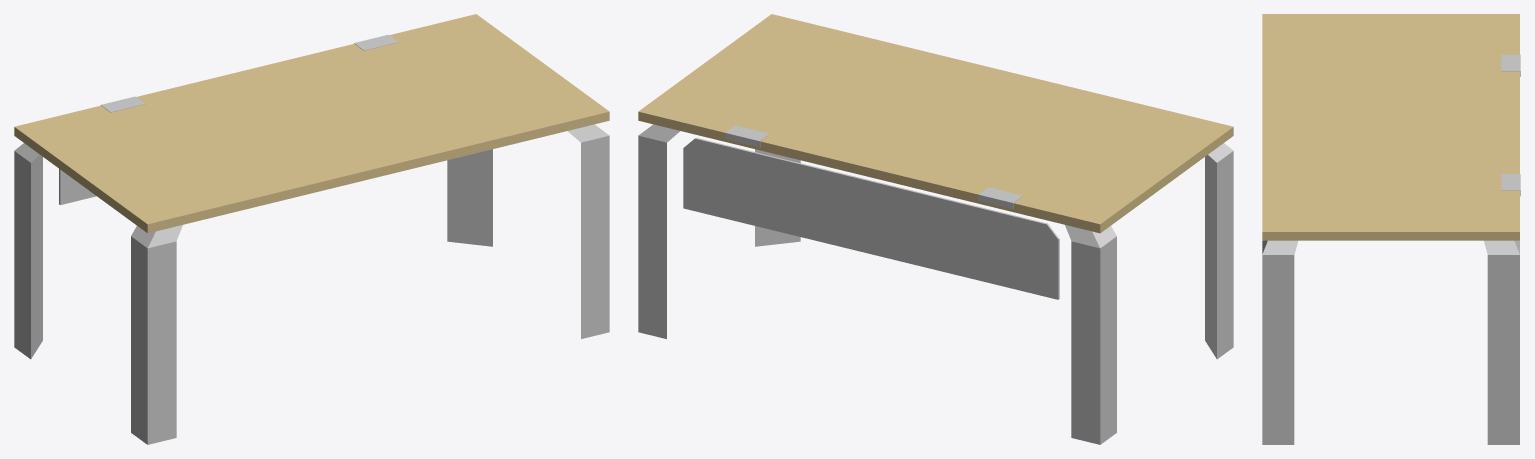
The model's file is table_2.dae.
3 views of the same model, side by side, from view 1: azimuth 30°, elevation 25°; view 2: azimuth 150°, elevation 25°; view 3: azimuth 270°, elevation 25° (orthographic). The views are drawn at different scales.
Parts seen in each view (by area): view 1: office_desk; view 2: office_desk; view 3: office_desk.
Boxes of the visible parts, x1,y1,x2,y2 form: office_desk: (14, 14, 609, 444); office_desk: (638, 14, 1233, 444); office_desk: (1262, 14, 1520, 444).
Size of the model in its own units: 1.6 by 0.8023 by 0.7313.
